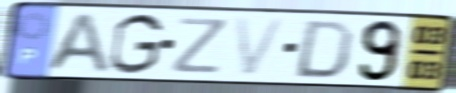9: (355, 18, 407, 84)
A: (42, 10, 114, 75)
D: (290, 18, 357, 81)
G: (107, 11, 167, 77)
V: (231, 15, 290, 80)
Z: (168, 15, 231, 76)
